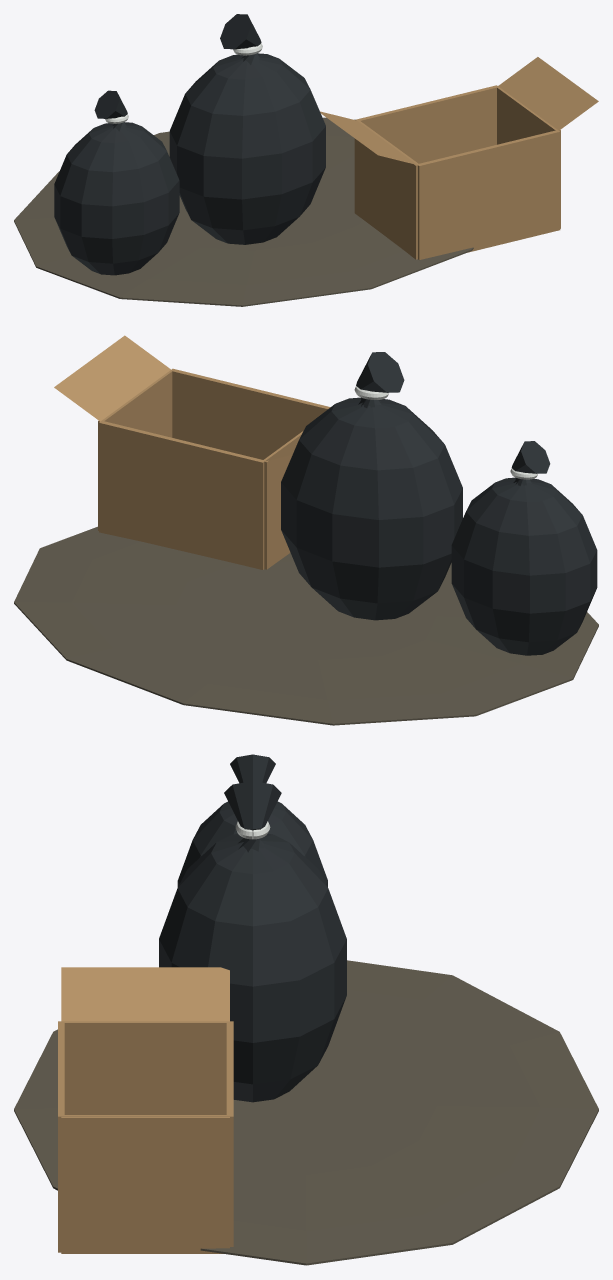
Rendered from CLN_TRASH_PILE_SMALL_01.fbx.
3 views of the same model, one above another, from view 1: azimuth 30°, elevation 25°; view 2: azimuth 150°, elevation 25°; view 3: azimuth 270°, elevation 25° (orthographic). The views are drawn at different scales.
Parts seen in each view (by area): view 1: CLN_TRASH_PILE_SMALL_01; view 2: CLN_TRASH_PILE_SMALL_01; view 3: CLN_TRASH_PILE_SMALL_01.
Part boxes in pixels (<box>): CLN_TRASH_PILE_SMALL_01: <box>14,14,598,306</box>; CLN_TRASH_PILE_SMALL_01: <box>14,335,598,725</box>; CLN_TRASH_PILE_SMALL_01: <box>14,754,598,1265</box>.
Size of the model in its own units: 141 by 64.39 by 109.
